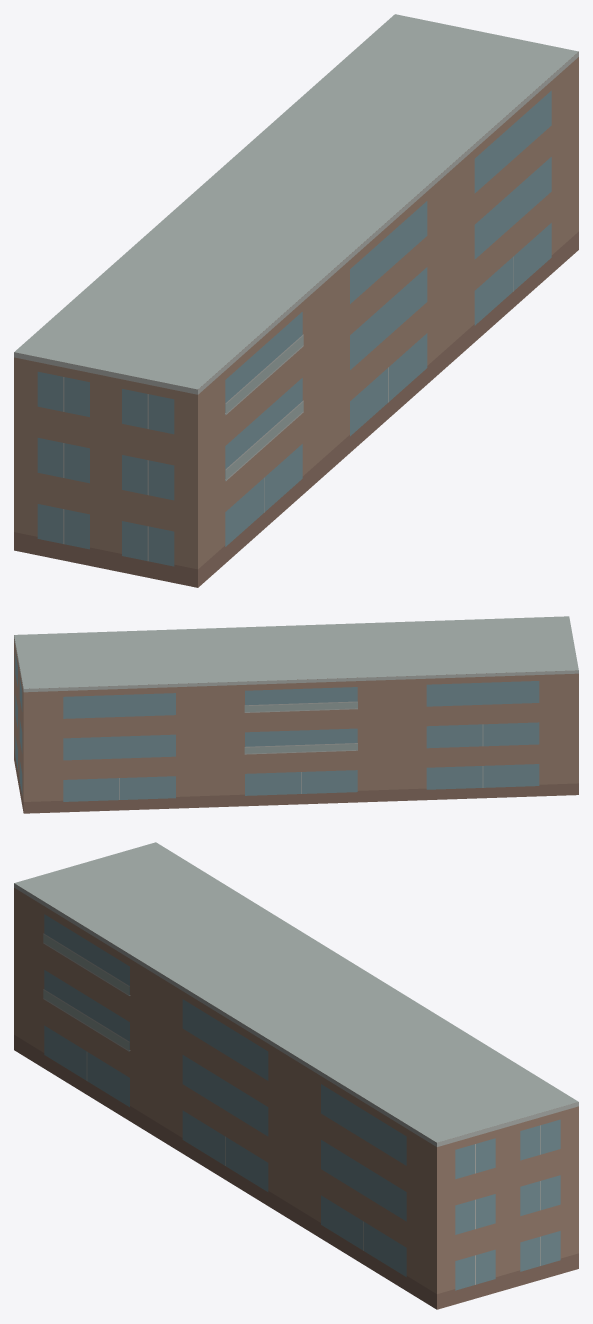
File: survey-upis-32686439.glb
The picture shows the model from 3 angles, top to bottom: view 1: azimuth 30°, elevation 25°; view 2: azimuth 150°, elevation 25°; view 3: azimuth 270°, elevation 25°; orthographic projection. The views are drawn at different scales.
Parts seen in each view (by area): view 1: survey-upis-32686439.tmp; view 2: survey-upis-32686439.tmp; view 3: survey-upis-32686439.tmp.
Part boxes in pixels (x1,y1,x2,y2): survey-upis-32686439.tmp: (14, 14, 578, 587); survey-upis-32686439.tmp: (14, 616, 578, 813); survey-upis-32686439.tmp: (14, 842, 578, 1309).
Size of the model in its own units: 35.34 by 9.15 by 28.06.
